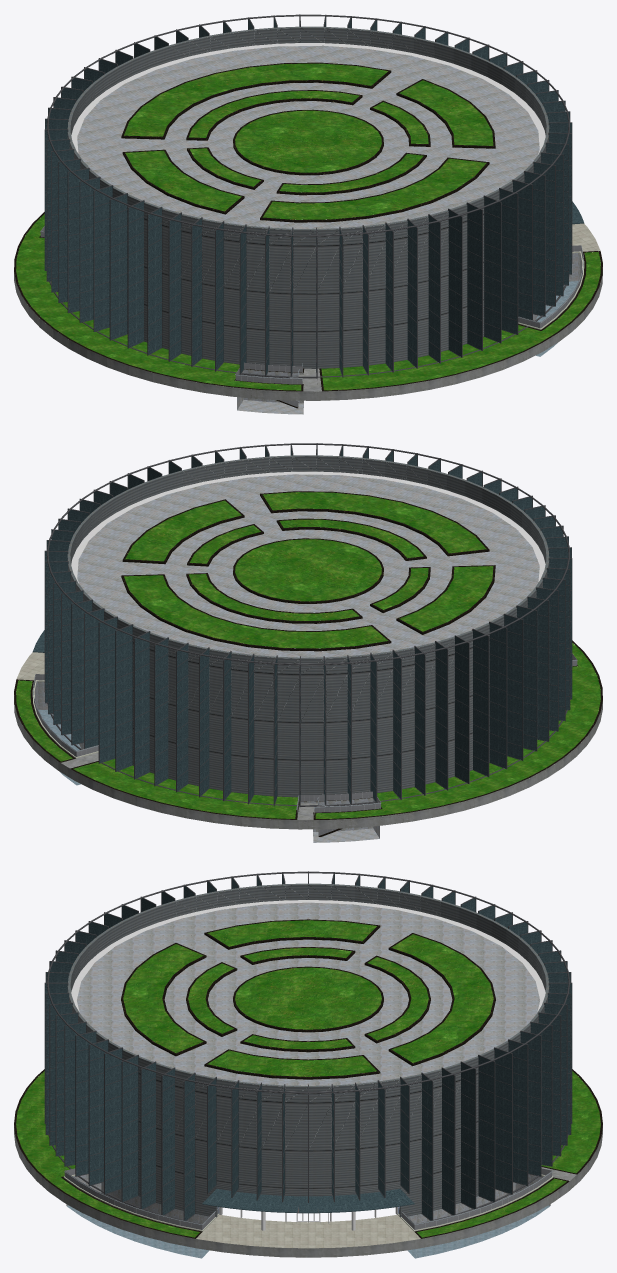
Rendered from outdoor.gltf.
3 views of the same model, one above another, from view 1: azimuth 30°, elevation 25°; view 2: azimuth 150°, elevation 25°; view 3: azimuth 270°, elevation 25° (orthographic).
Parts seen in each view (by area): view 1: wl01wk0001; view 2: wl01wk0001; view 3: wl01wk0001.
Boxes of the visible parts, x1,y1,x2,y2 form: wl01wk0001: [14, 14, 602, 414]; wl01wk0001: [14, 443, 602, 842]; wl01wk0001: [14, 871, 602, 1258].
Bounding box in the file's own units: 5.7 × 1.85 × 5.7.
28 materials, 28 textured.
